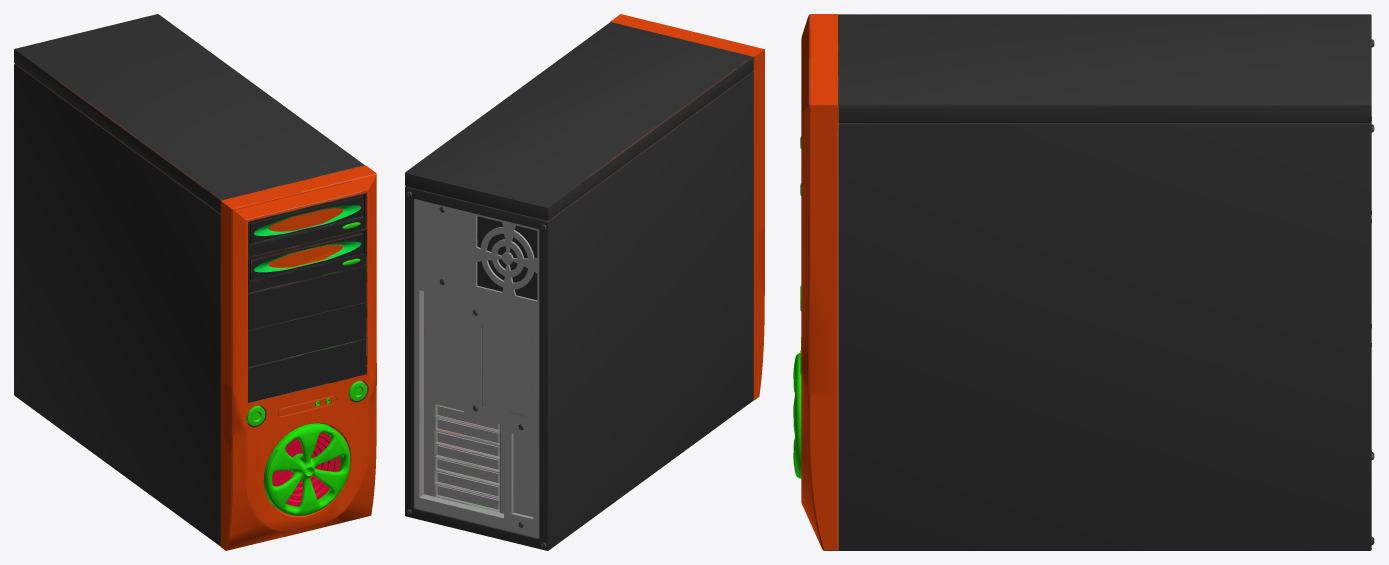
The model's file is device.fbx.
3 views of the same model, side by side, from view 1: azimuth 30°, elevation 25°; view 2: azimuth 150°, elevation 25°; view 3: azimuth 270°, elevation 25° (orthographic). The views are drawn at different scales.
Visible parts, largest first — view 1: 030_4; view 2: 030_4; view 3: 030_4.
Boxes of the visible parts, x1=… form: 030_4: x1=14, y1=14, x2=376, y2=550; 030_4: x1=405, y1=14, x2=764, y2=550; 030_4: x1=793, y1=14, x2=1374, y2=550.
Size of the model in its own units: 18 by 41.1 by 48.44.
1 material, 1 textured.
